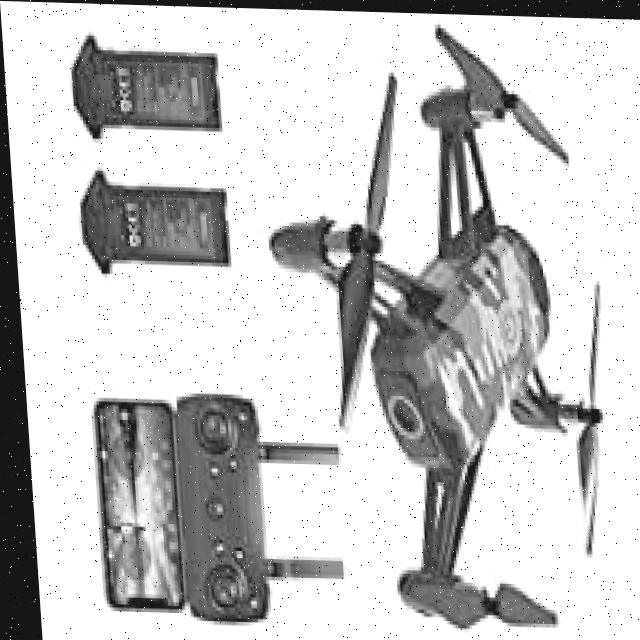drone: (252, 6, 640, 640)
